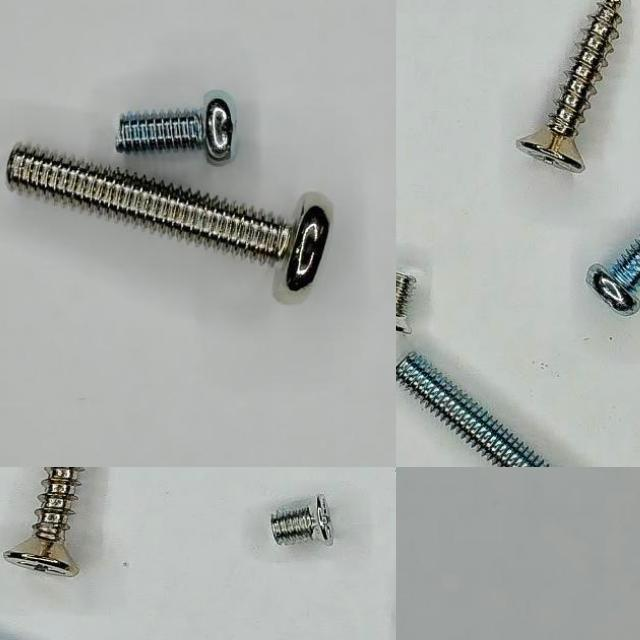Screw: (5, 144, 330, 292), (516, 0, 622, 173), (396, 353, 550, 467), (2, 467, 81, 576), (115, 91, 234, 162), (270, 495, 333, 545), (396, 274, 415, 335)
